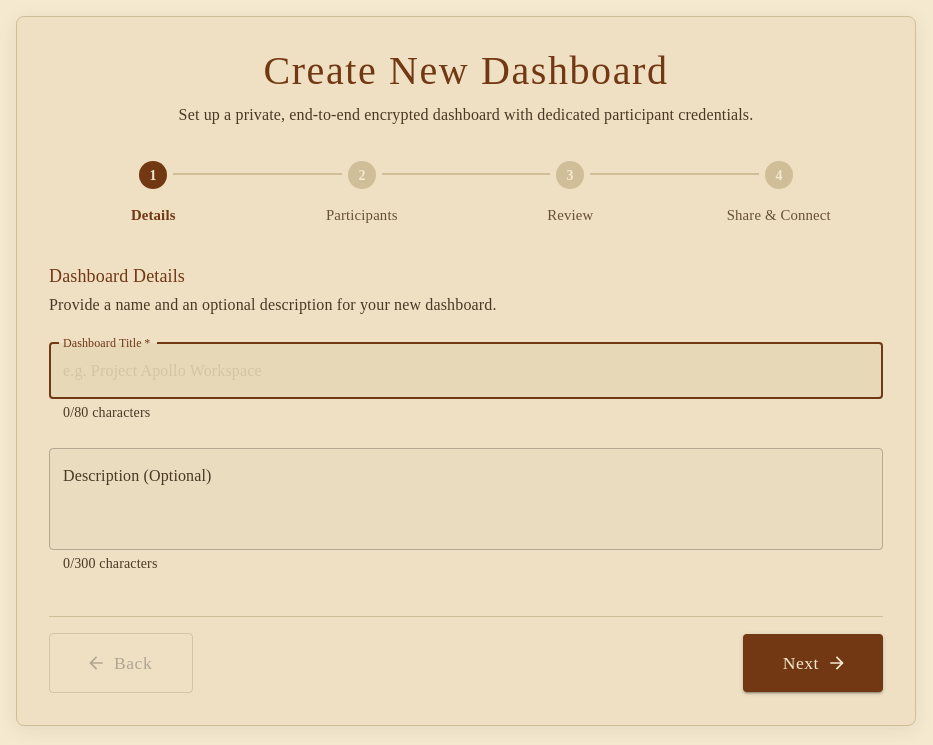
it: DashboardCreationWizard (/new) › Step 1: Dashboard Details › advances to Step 2 when valid title and description are entered
Step 1. Type "Apollo Mission Control" into the field labelled "Dashboard Title" → (466, 371), box 49,343 -> 883,399
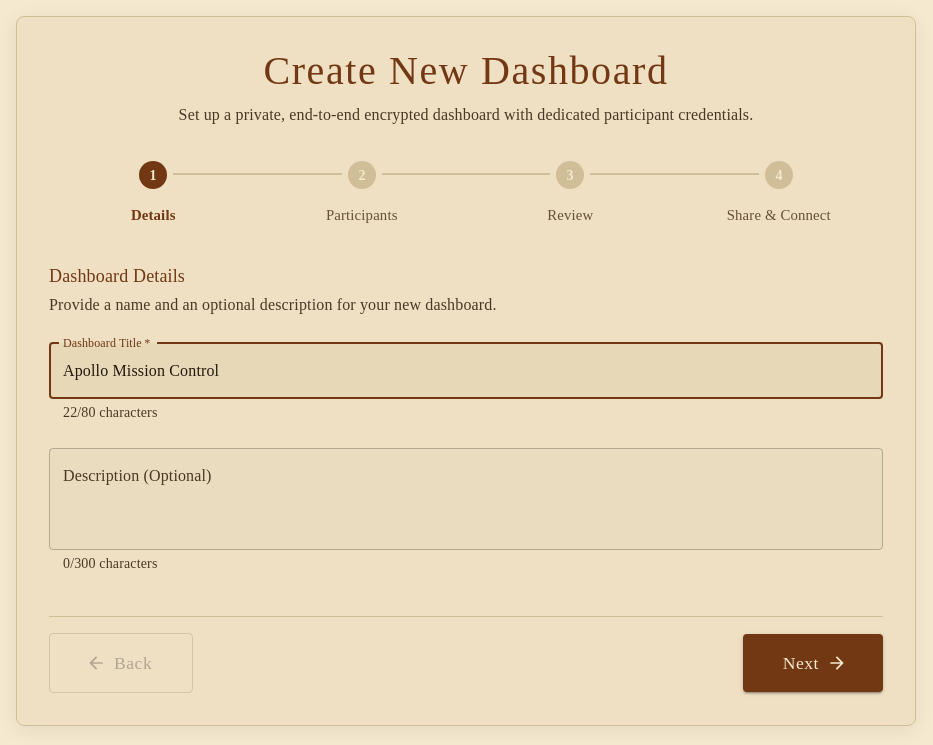
Step 2. Replace the text in the text box named "Dashboard Description" with "Confidential moon landing notes" → (466, 499), box 63,465 -> 869,534
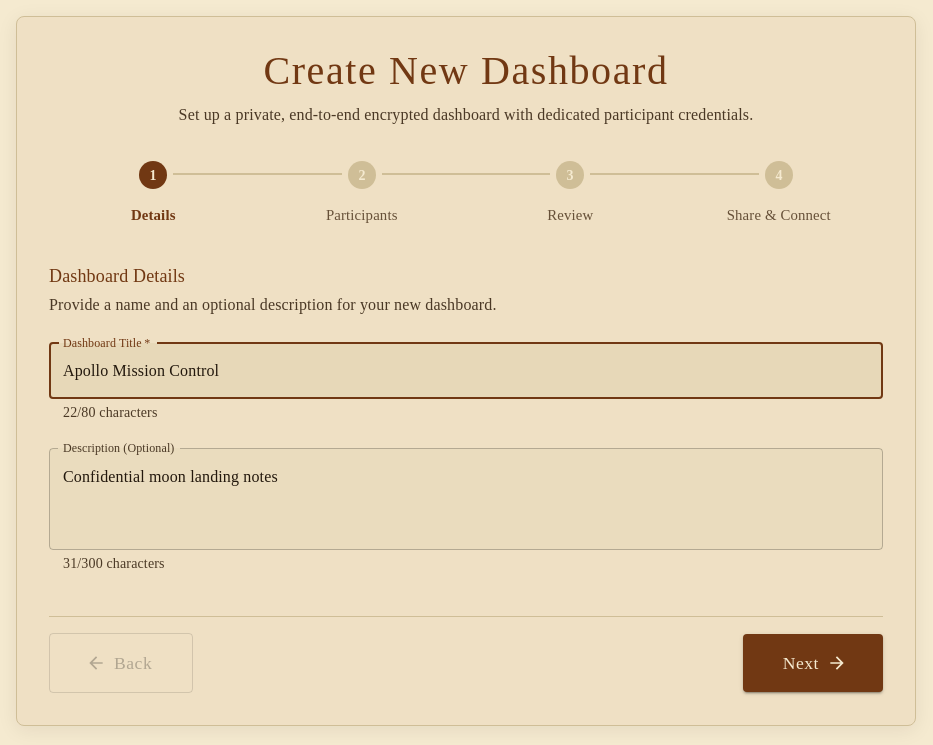
Step 3. Click the button "Next" → (813, 663), box 743,634 -> 883,692
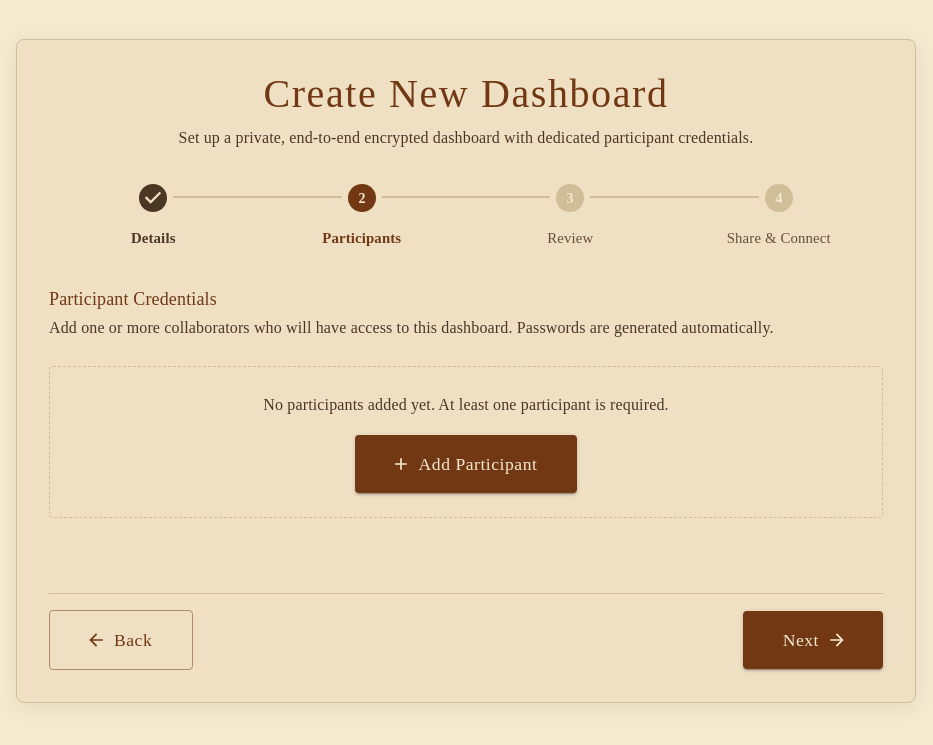
Expected: the heading "Participant Credentials" is shown, 49,289 -> 217,309
